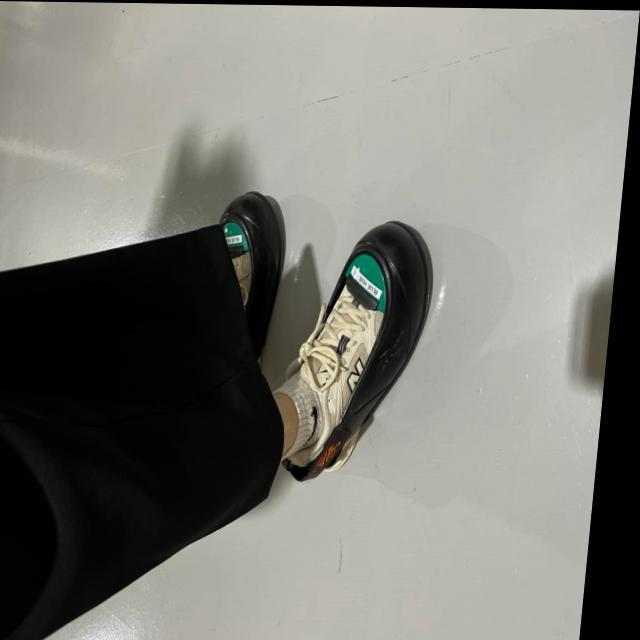shoes: (276, 215, 438, 492), (220, 182, 288, 362)
